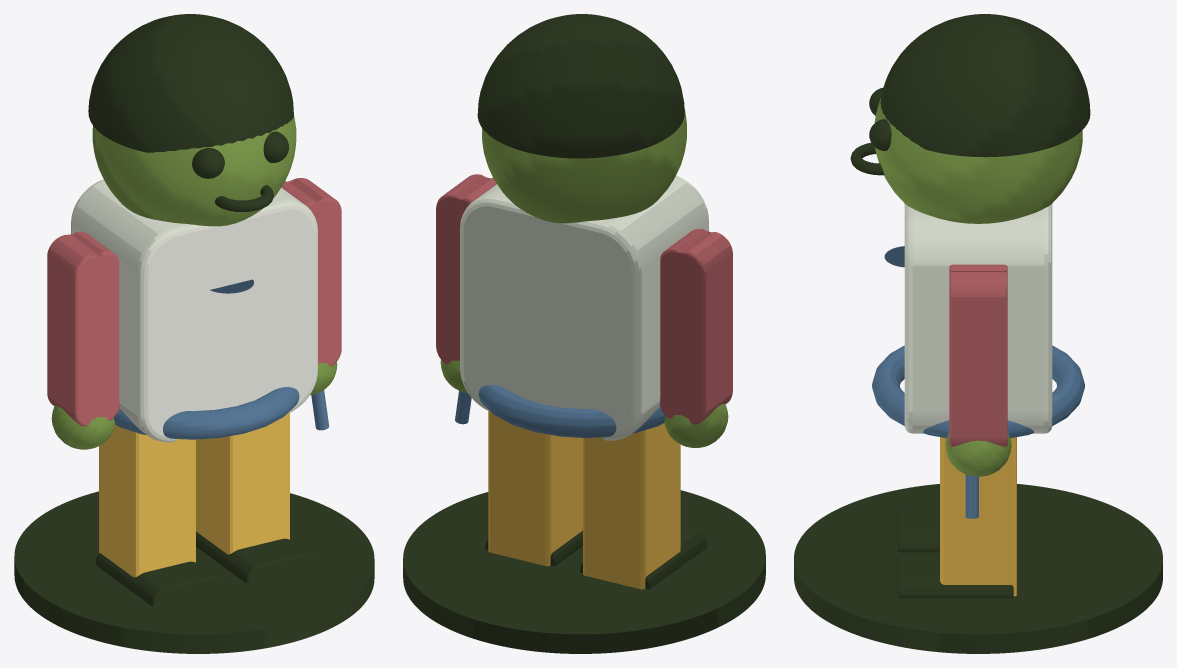
Rendered from 1132_左传_荀林父.glb.
3 views of the same model, side by side, from view 1: azimuth 30°, elevation 25°; view 2: azimuth 150°, elevation 25°; view 3: azimuth 270°, elevation 25° (orthographic).
Visible parts, largest first — view 1: card_1132; view 2: card_1132; view 3: card_1132.
Boxes of the visible parts, x1=… form: card_1132: x1=14, y1=14, x2=374, y2=653; card_1132: x1=403, y1=14, x2=765, y2=653; card_1132: x1=794, y1=14, x2=1162, y2=653.
Bounding box in the file's own units: 0.5759 × 1 × 0.5901.
